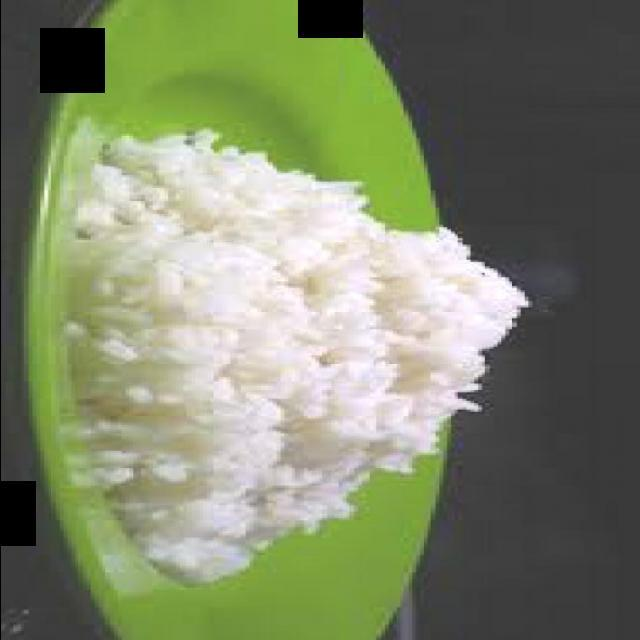rice: (70, 130, 530, 585)
